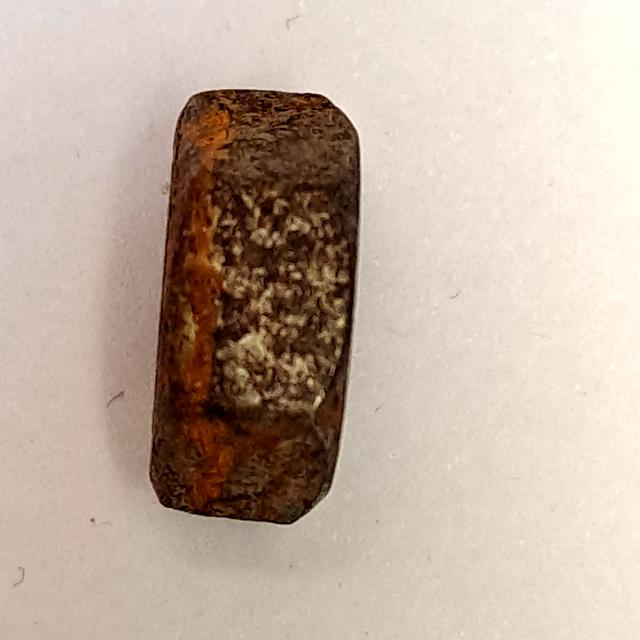Side_Rust: (130, 83, 374, 543)
